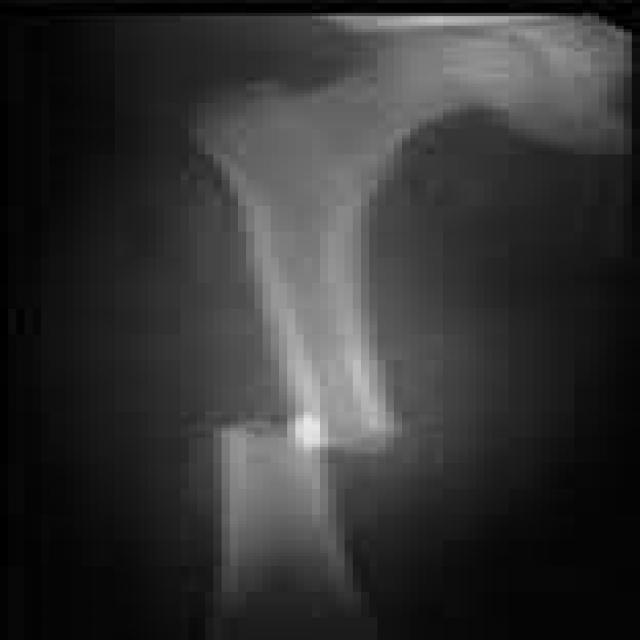Broken: (243, 193, 386, 454), (206, 427, 368, 640)
